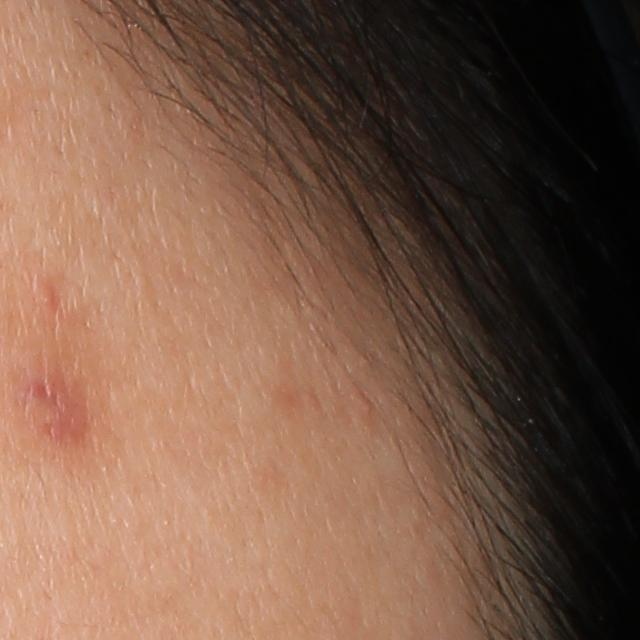papule: (30, 276, 62, 313)
